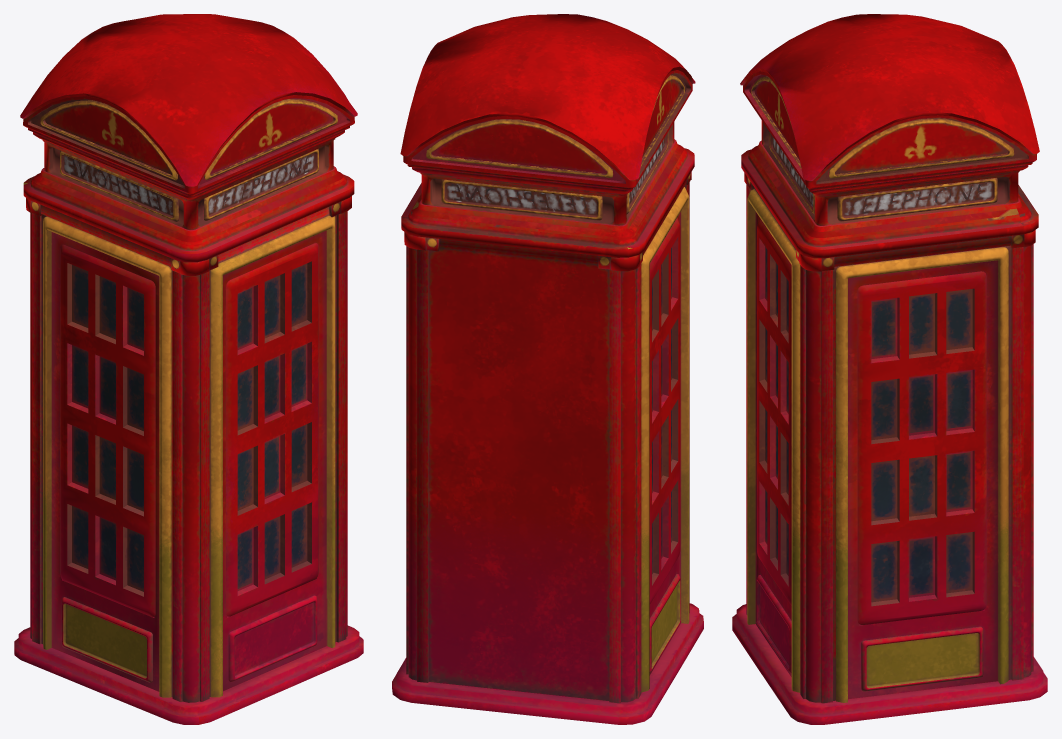
Rendered from model_telephone.glb.
3 renders of one model, left to right at view 1: azimuth 30°, elevation 25°; view 2: azimuth 150°, elevation 25°; view 3: azimuth 270°, elevation 25°, orthographic.
Parts seen in each view (by area): view 1: Cube.016; view 2: Cube.016; view 3: Cube.016.
Part boxes in pixels (left/top/right/bottom): Cube.016: left=14, top=14, right=363, bottom=724; Cube.016: left=392, top=14, right=703, bottom=724; Cube.016: left=732, top=14, right=1047, bottom=724.
Size of the model in its own units: 1.47 by 3.18 by 1.47.
Materials: 2 (2 with a texture image).
